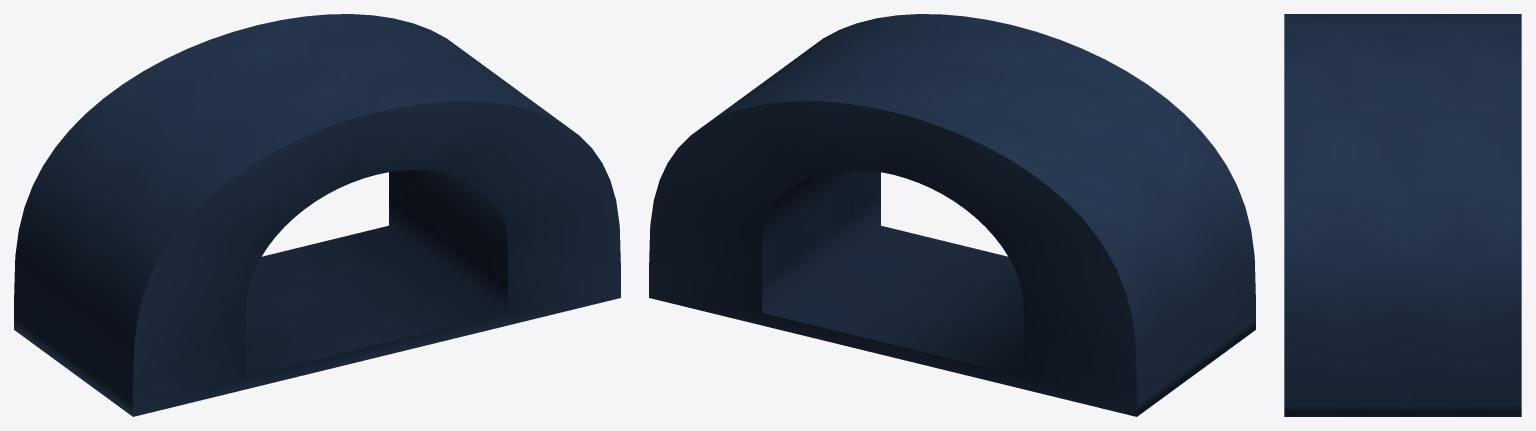
The model's file is straight_12m_terrain_lod1.glb.
3 renders of one model, left to right at view 1: azimuth 30°, elevation 25°; view 2: azimuth 150°, elevation 25°; view 3: azimuth 270°, elevation 25°, orthographic.
Parts seen in each view (by area): view 1: TerrainRoof.005; view 2: TerrainRoof.005; view 3: TerrainRoof.005.
Boxes of the visible parts, left/top/right/bottom form: TerrainRoof.005: left=14, top=14, right=620, bottom=416; TerrainRoof.005: left=649, top=14, right=1255, bottom=416; TerrainRoof.005: left=1284, top=14, right=1521, bottom=416.
Size of the model in its own units: 28.4 by 13.65 by 12.
